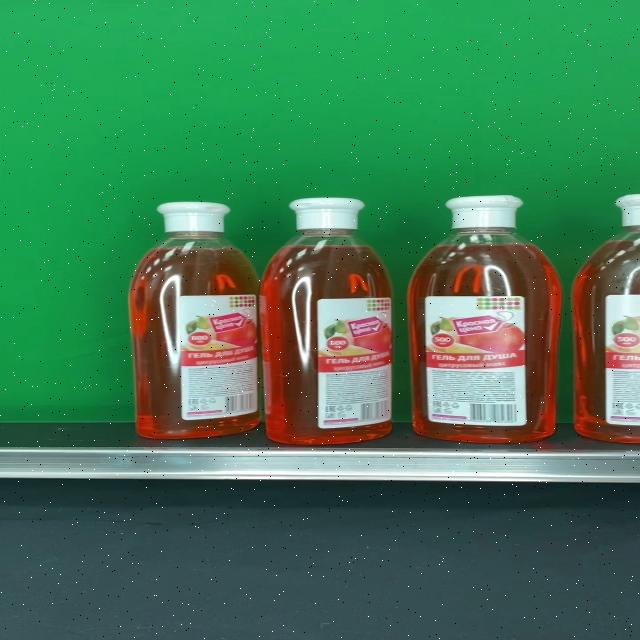Bottle: (409, 195, 564, 442), (258, 197, 392, 444), (128, 202, 260, 439)
Cap: (444, 196, 525, 230), (288, 198, 366, 230), (157, 202, 230, 234)
